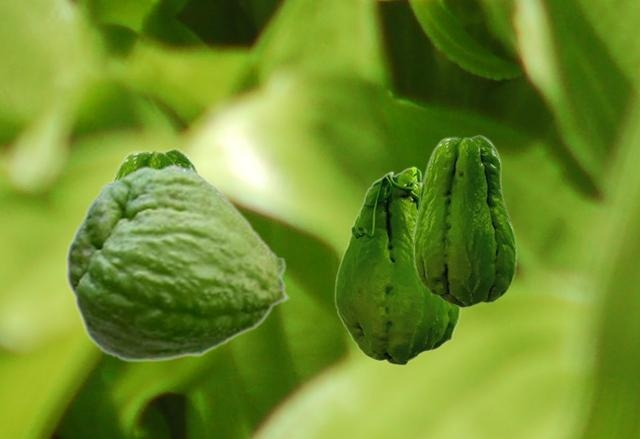sayote: (65, 163, 290, 362), (334, 166, 460, 365), (110, 147, 200, 357), (413, 134, 516, 307)
